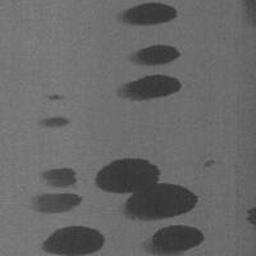Oil spot: (93, 156, 201, 224), (22, 164, 84, 218), (137, 224, 206, 256), (38, 224, 106, 256), (114, 73, 183, 104), (111, 0, 180, 28), (122, 42, 182, 68), (36, 114, 74, 129), (45, 92, 67, 102), (202, 159, 218, 169)
